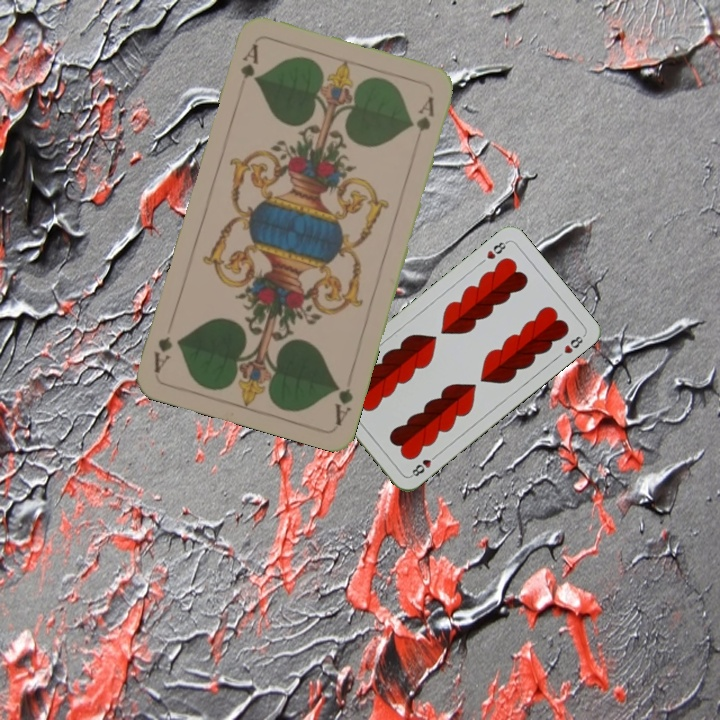GA: (234, 39, 261, 97), (330, 378, 356, 427)
H8: (406, 450, 441, 480), (482, 237, 510, 262)
